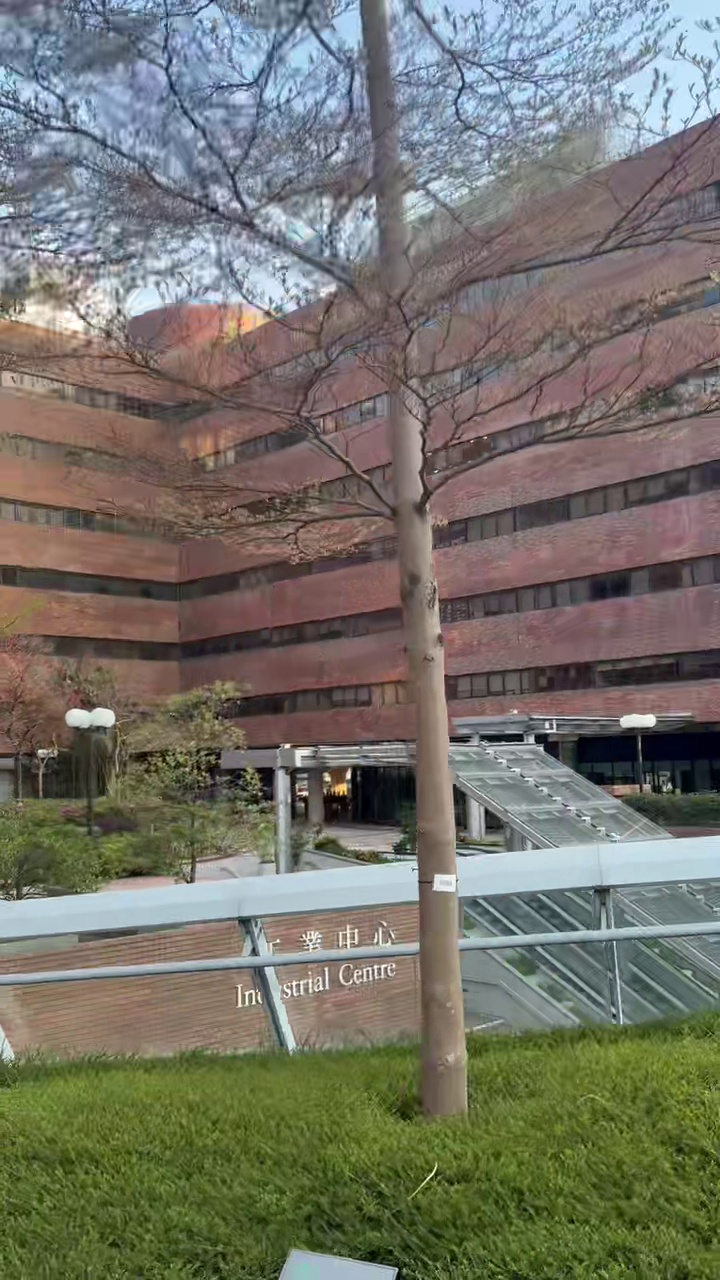Terminalia mantaly: (0, 0, 719, 1114)
